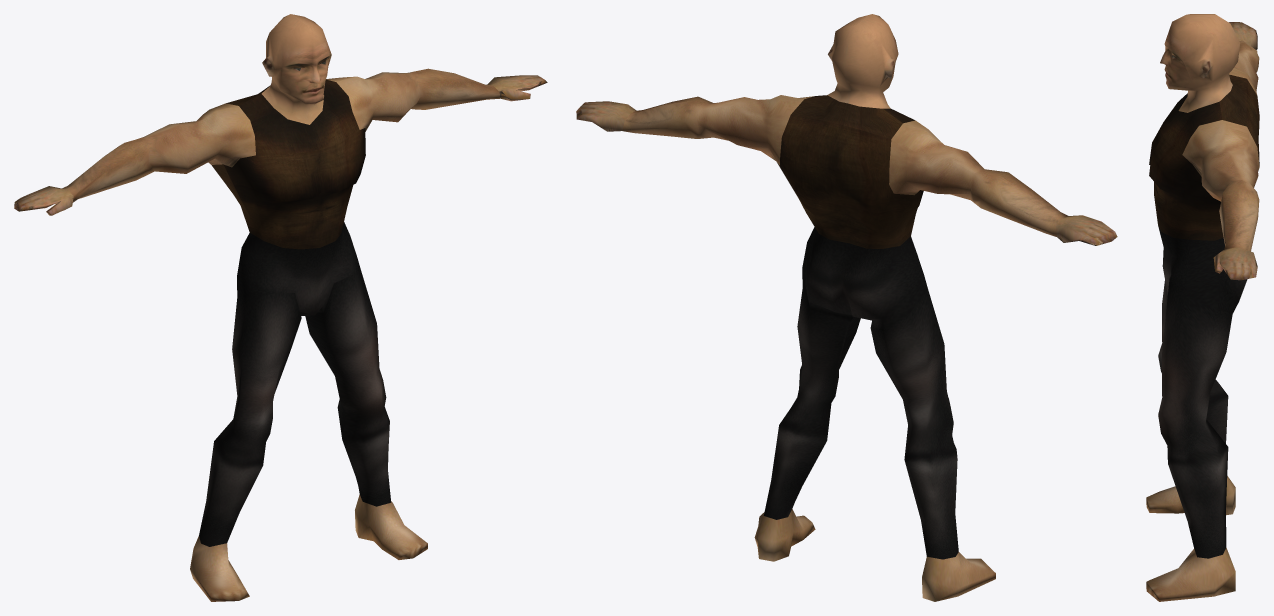
The model's file is combatjacket5_body.obj.
3 views of the same model, side by side, from view 1: azimuth 30°, elevation 25°; view 2: azimuth 150°, elevation 25°; view 3: azimuth 270°, elevation 25° (orthographic). The views are drawn at different scales.
Parts seen in each view (by area): view 1: Body_man_clothes, Body_man_skin; view 2: Body_man_clothes, Body_man_skin; view 3: Body_man_clothes, Body_man_skin.
Part boxes in pixels (x1,y1,x2,y2): Body_man_clothes: (190,79,427,601); Body_man_skin: (14,14,547,215); Body_man_clothes: (754,95,995,601); Body_man_skin: (576,14,1117,245); Body_man_clothes: (1146,74,1259,601); Body_man_skin: (1160,14,1259,280).
Bounding box in the file's own units: 100 × 97.9 × 18.78.
Materials: 2 (2 with a texture image).
